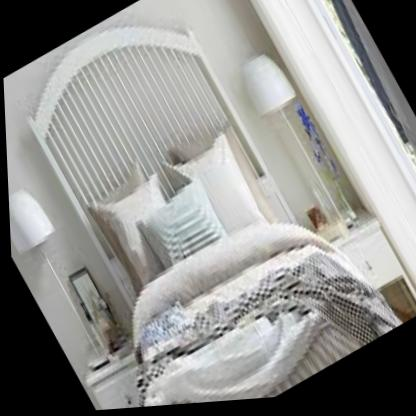Bed: (0, 0, 400, 416)
Lamp: (226, 39, 371, 262), (6, 174, 118, 378)
